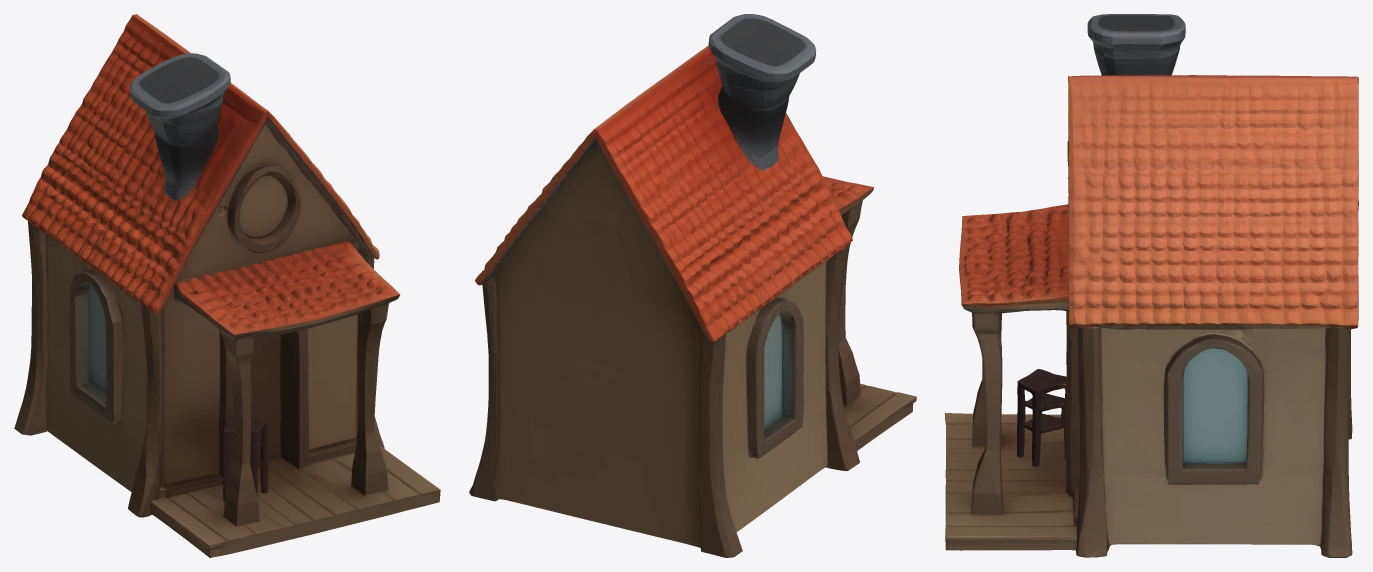
Rendered from 3deditformer_t03.glb.
3 renders of one model, left to right at view 1: azimuth 30°, elevation 25°; view 2: azimuth 150°, elevation 25°; view 3: azimuth 270°, elevation 25°, orthographic. The views are drawn at different scales.
Visible parts, largest first — view 1: geometry_0; view 2: geometry_0; view 3: geometry_0.
Part boxes in pixels (x1=…): geometry_0: x1=14, y1=14, x2=440, y2=557; geometry_0: x1=469, y1=14, x2=916, y2=557; geometry_0: x1=945, y1=14, x2=1358, y2=557.
Bounding box in the file's own units: 0.7271 × 1.13 × 0.9484.
1 material, 1 textured.
